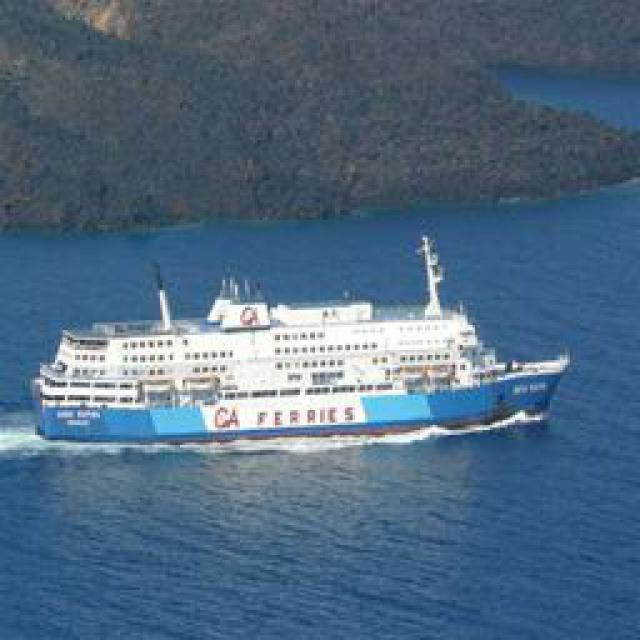Ship: (44, 240, 574, 450)
